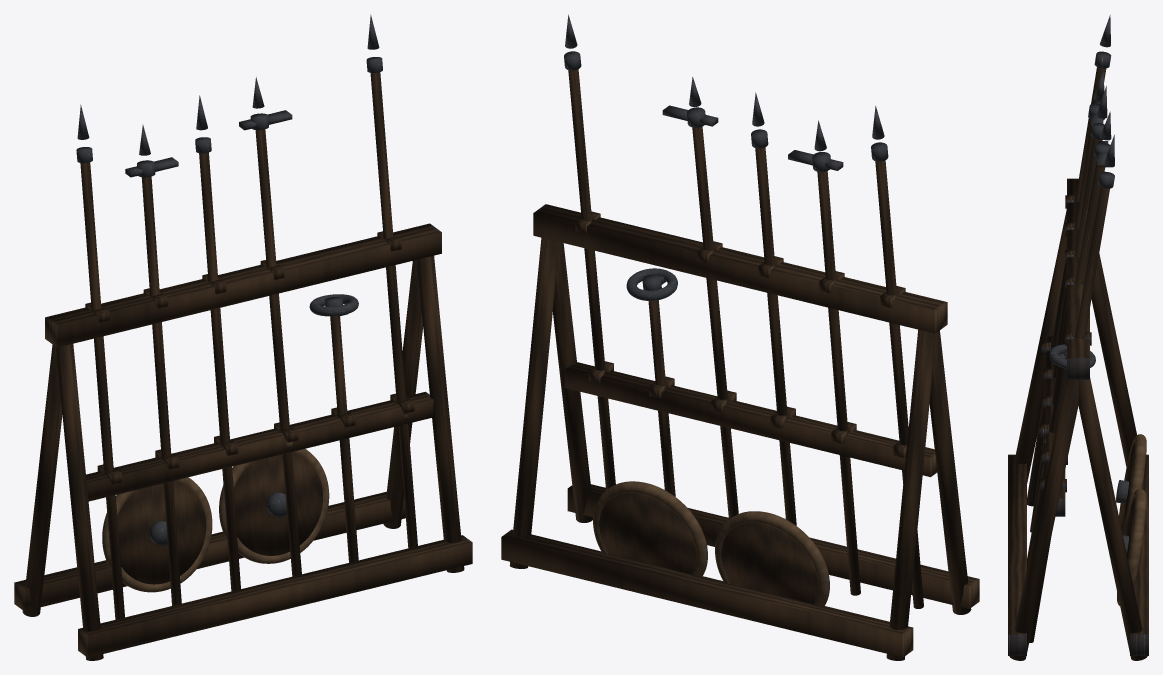
File: weapon-rack-hy3-v1.glb
3 views of the same model, side by side, from view 1: azimuth 30°, elevation 25°; view 2: azimuth 150°, elevation 25°; view 3: azimuth 270°, elevation 25° (orthographic). The views are drawn at different scales.
Parts seen in each view (by area): view 1: geometry_0; view 2: geometry_0; view 3: geometry_0.
Boxes of the visible parts, left/top/right/bottom form: geometry_0: left=14, top=14, right=472, bottom=660; geometry_0: left=501, top=14, right=979, bottom=660; geometry_0: left=1008, top=15, right=1148, bottom=660.
Bounding box in the file's own units: 2.24 × 2.95 × 0.74.
Materials: 1 (1 with a texture image).
